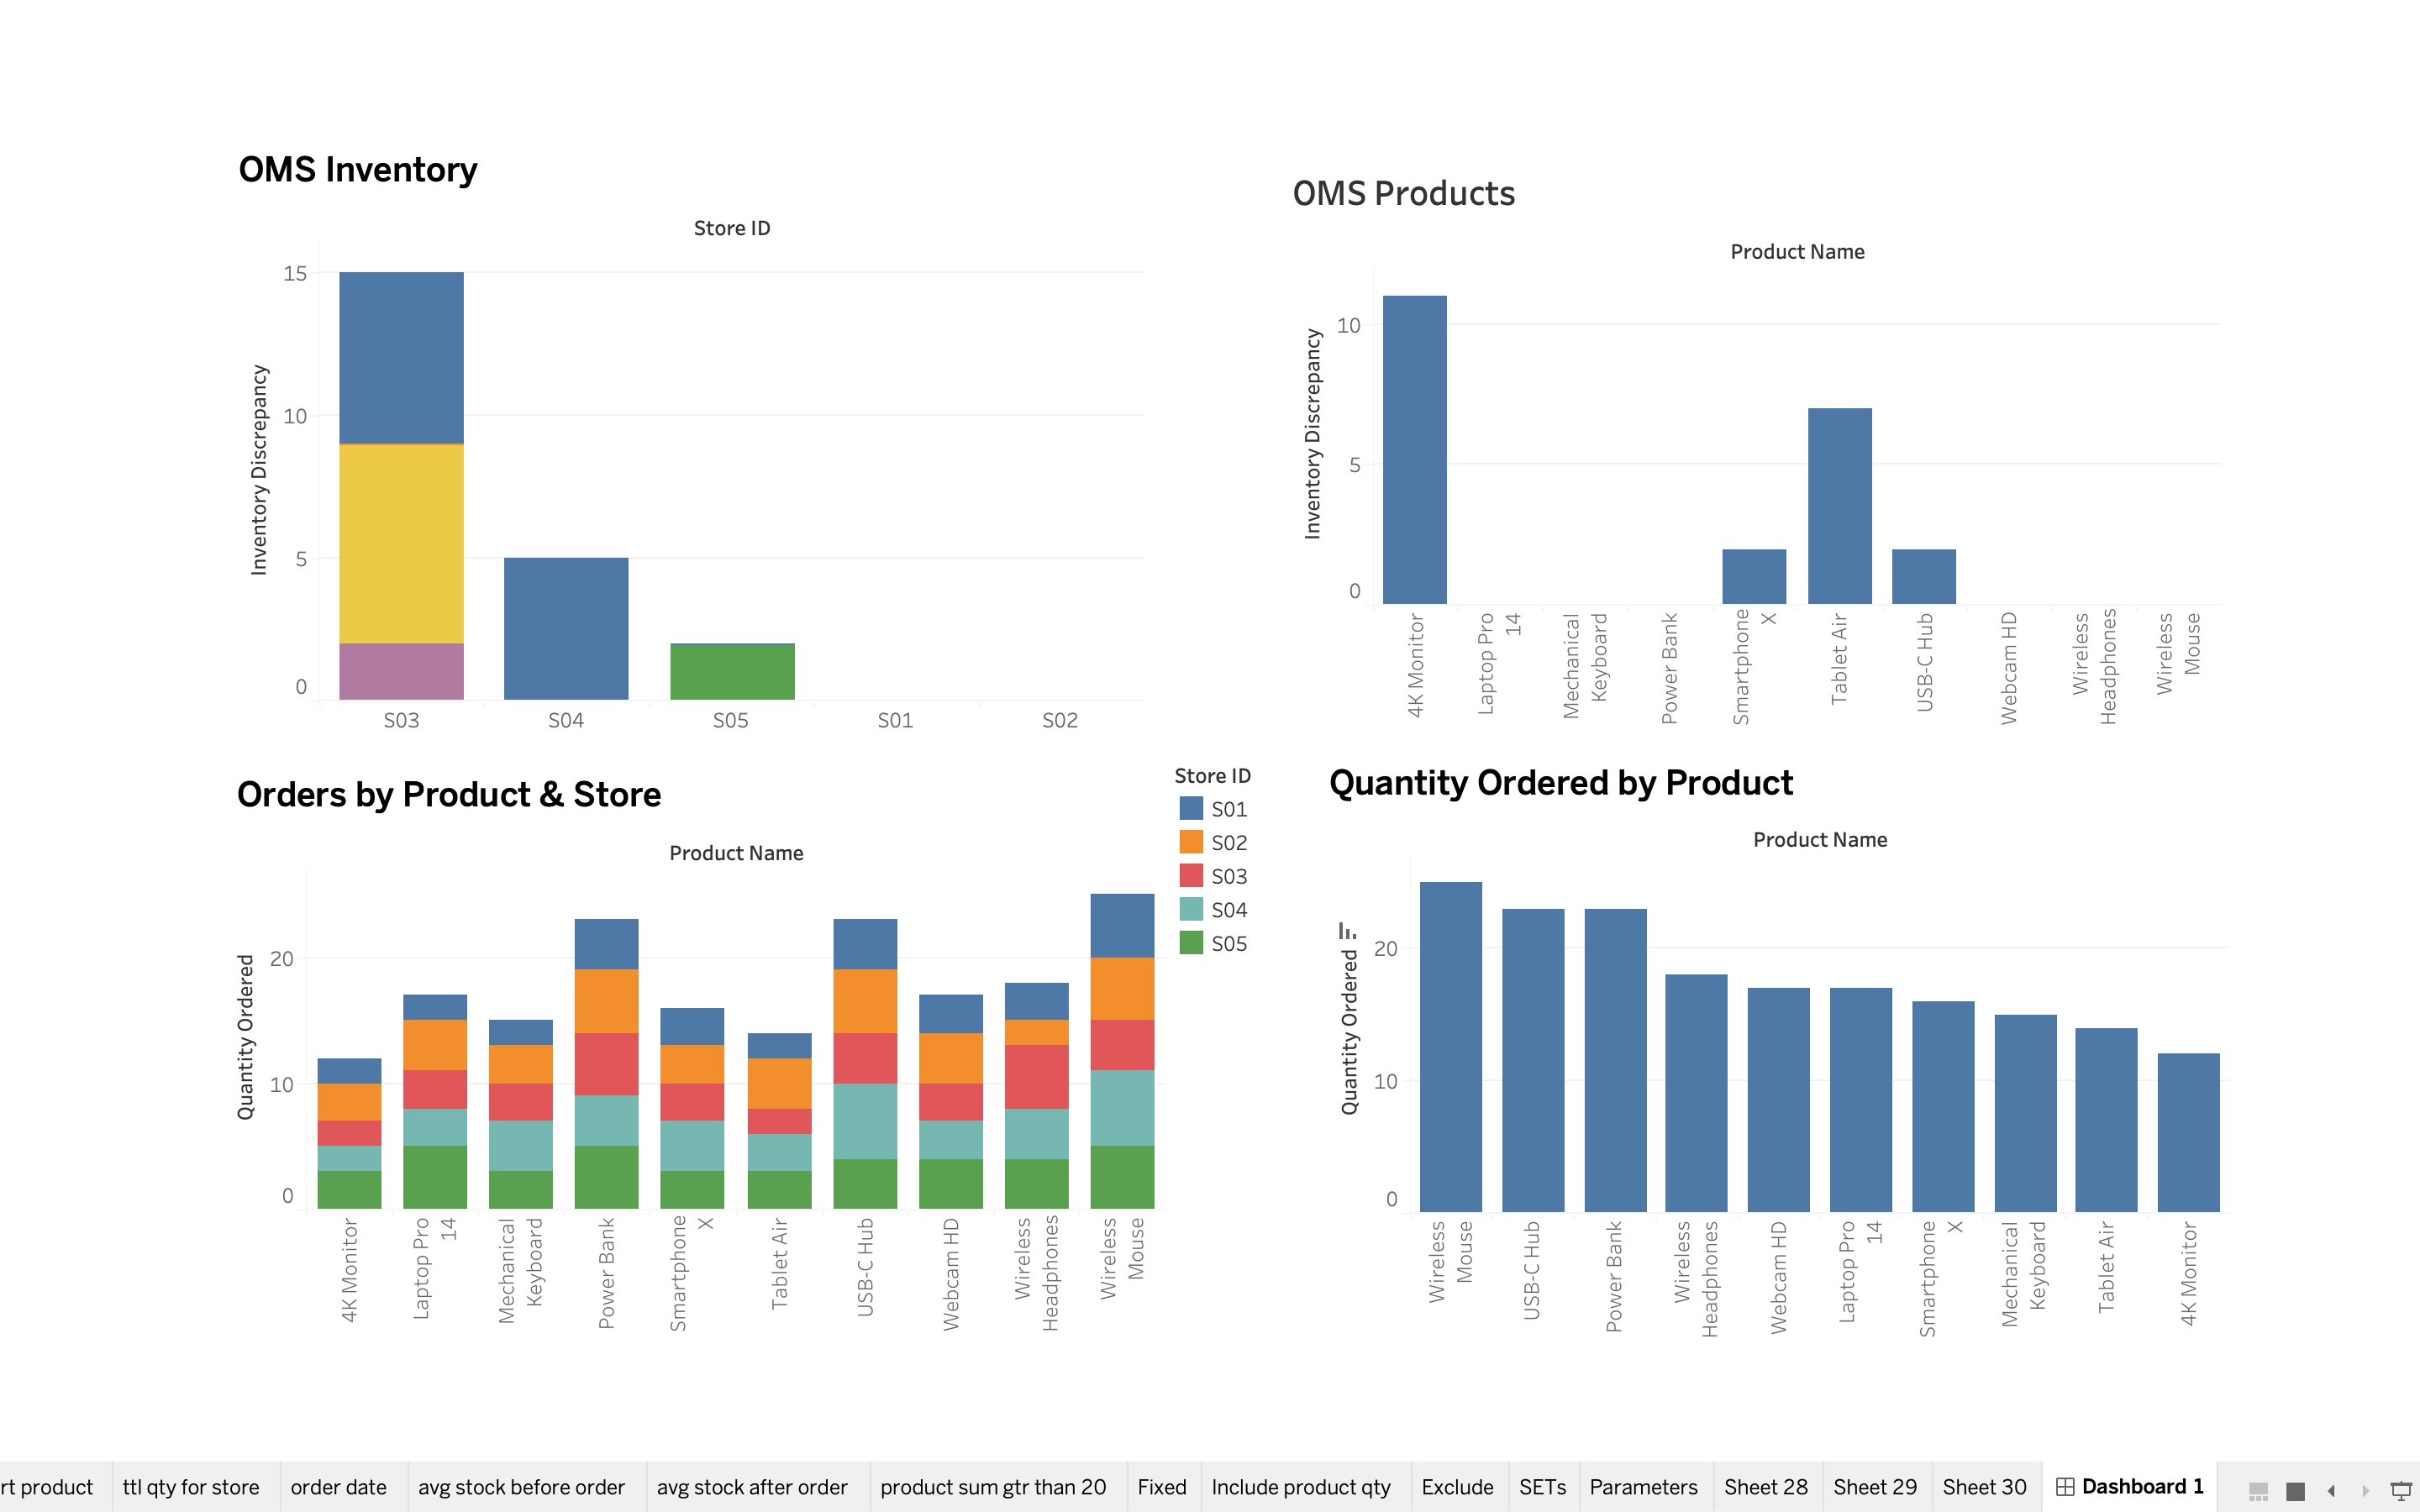

This screenshot's page, from the dashboard's own definition file:
{"tool":"tableau","page":{"name":"Dashboard 1","canvas":[1000,1000],"units":"permille","ordinal":0},"visuals":[{"type":"worksheet","title":" Inventory Discrepancy","mark":"Automatic","rows":["Calculation_0086624415612928"],"cols":["Store_ID"],"box":[22.9,38.2,445.1,465.8]},{"type":"worksheet","title":"Sheet 29","mark":"Automatic","rows":["Calculation_0086624415612928"],"cols":["Product_Name"],"box":[536.9,54,456.6,444.7]},{"type":"worksheet","title":"ttl qrt product","mark":"Automatic","rows":["Quantity_Ordered"],"cols":["Product_Name"],"box":[554.9,518.4,442.6,461.8]},{"type":"legend","title":"Sheet 30","param":"[federated.1haqexm19v465d1ei5vbn0gg40ds].[none:Store_ID:nk]","box":[482.8,523.7,90.2,155.3]},{"type":"worksheet","title":"Sheet 30","mark":"Automatic","rows":["Quantity_Ordered"],"cols":["Product_Name"],"box":[22.1,527.6,456.6,446.1]}]}

Visuals, with their boxes on the dashboard's canvas, which has no fixed pixel size, in thousandths of its width and height (x1, y1, x2, y2). These are canvas units, not pixel positions in the 2420x1512 screenshot, which may show the page scaled, cropped or inside an application window:
" Inventory Discrepancy" worksheet: box=[23, 38, 468, 504]
"Sheet 29" worksheet: box=[537, 54, 994, 499]
"ttl qrt product" worksheet: box=[555, 518, 998, 980]
"Sheet 30" legend: box=[483, 524, 573, 679]
"Sheet 30" worksheet: box=[22, 528, 479, 974]
